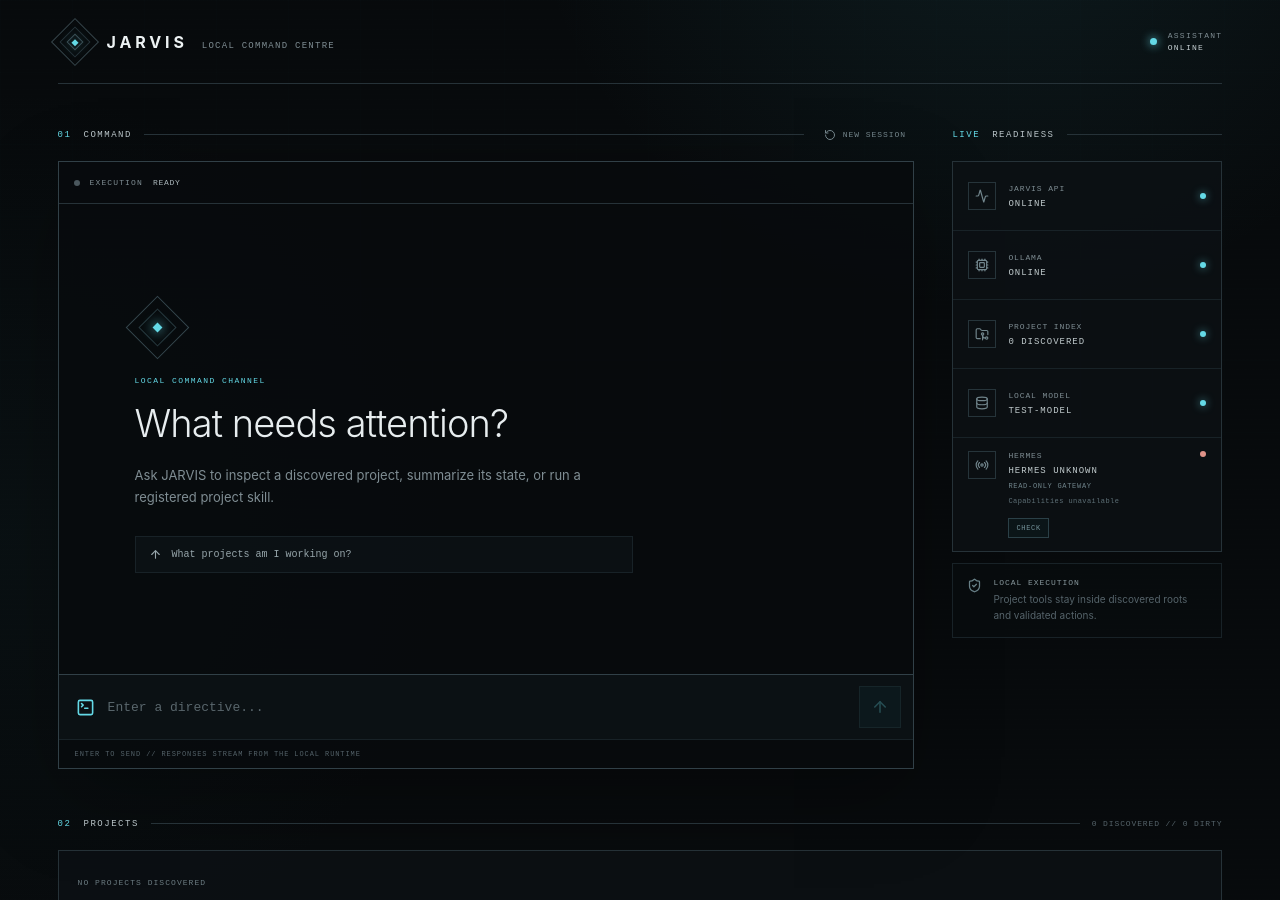
Scenario: Dashboard › keeps a safe approved-tool result visible in the transcript
Expected: the text "ONLINE" below "ASSISTANT" is shown, [1168, 43, 1204, 52]
Type "Is it clean?" into the field named "Enter a command". click: (477, 707)
box: [108, 686, 846, 728]
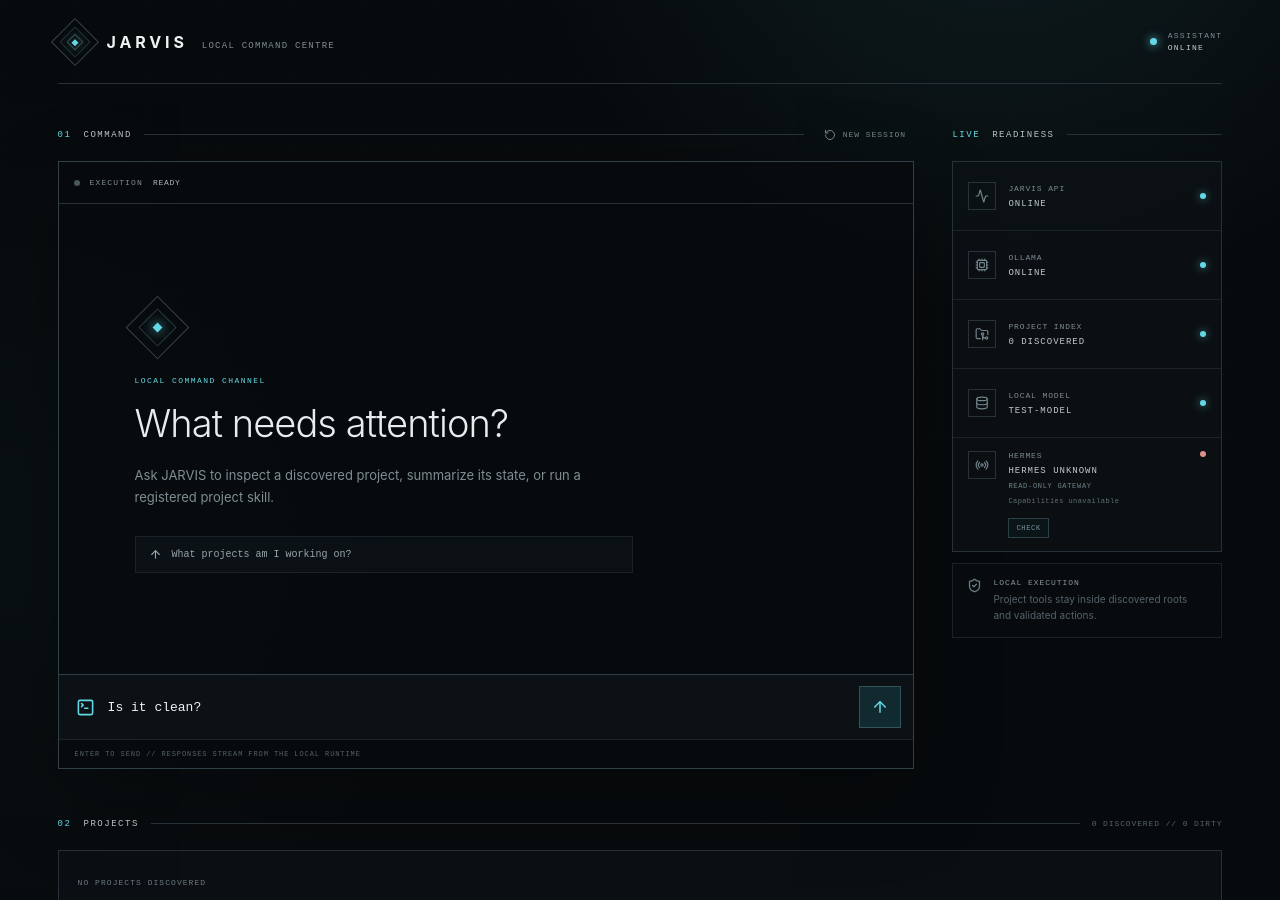
Click the button named "Send message". click: (880, 707)
box: [859, 686, 901, 728]
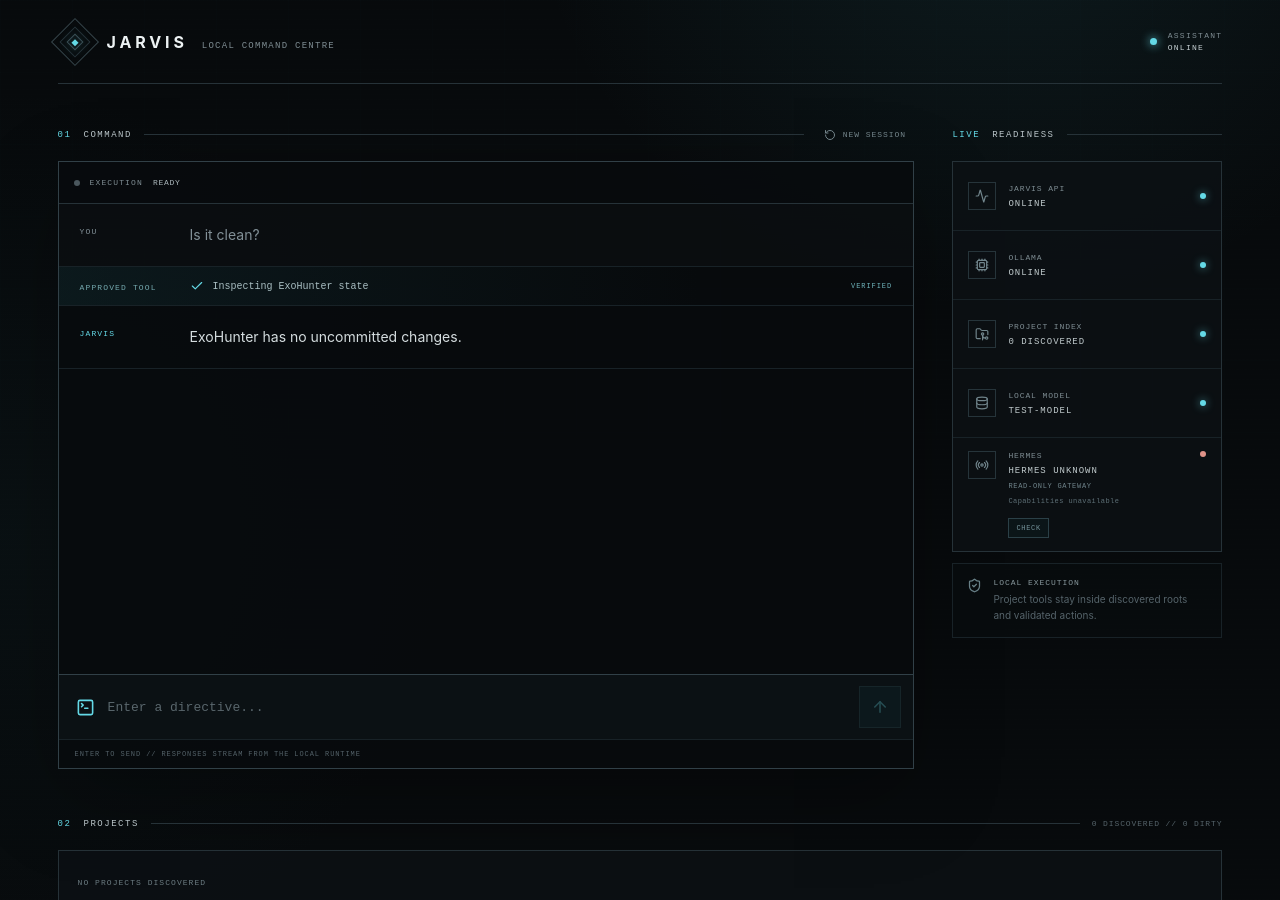
Expected: the text "Inspecting ExoHunter state" is shown, [213, 281, 369, 292]
Expected: the text "VERIFIED" is shown, [851, 282, 892, 290]
Expected: the text "ExoHunter has no uncommitted changes." is shown, [190, 328, 462, 345]
